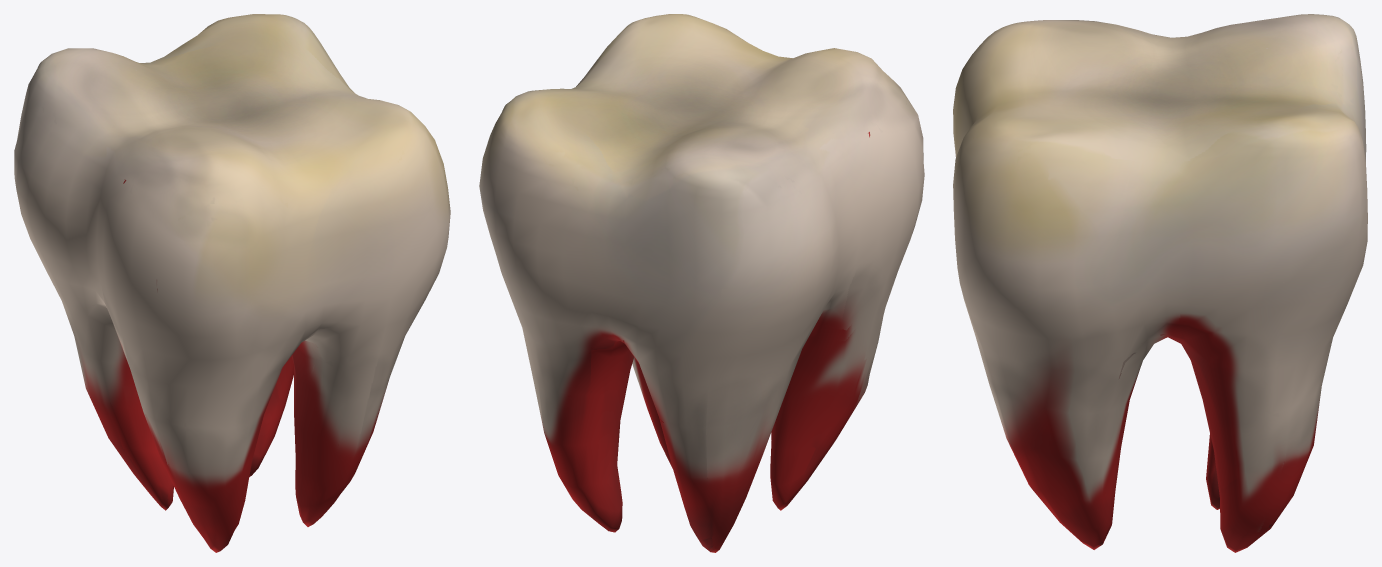
Rendered from tooth.FBX.
The picture shows the model from 3 angles, left to right: view 1: azimuth 30°, elevation 25°; view 2: azimuth 150°, elevation 25°; view 3: azimuth 270°, elevation 25°; orthographic projection. The views are drawn at different scales.
Visible parts, largest first — view 1: Box001; view 2: Box001; view 3: Box001.
Part boxes in pixels (x1,y1,x2,y2): Box001: (14,14,450,552); Box001: (479,14,924,552); Box001: (953,14,1367,552).
Bounding box in the file's own units: 110 × 136 × 104.
